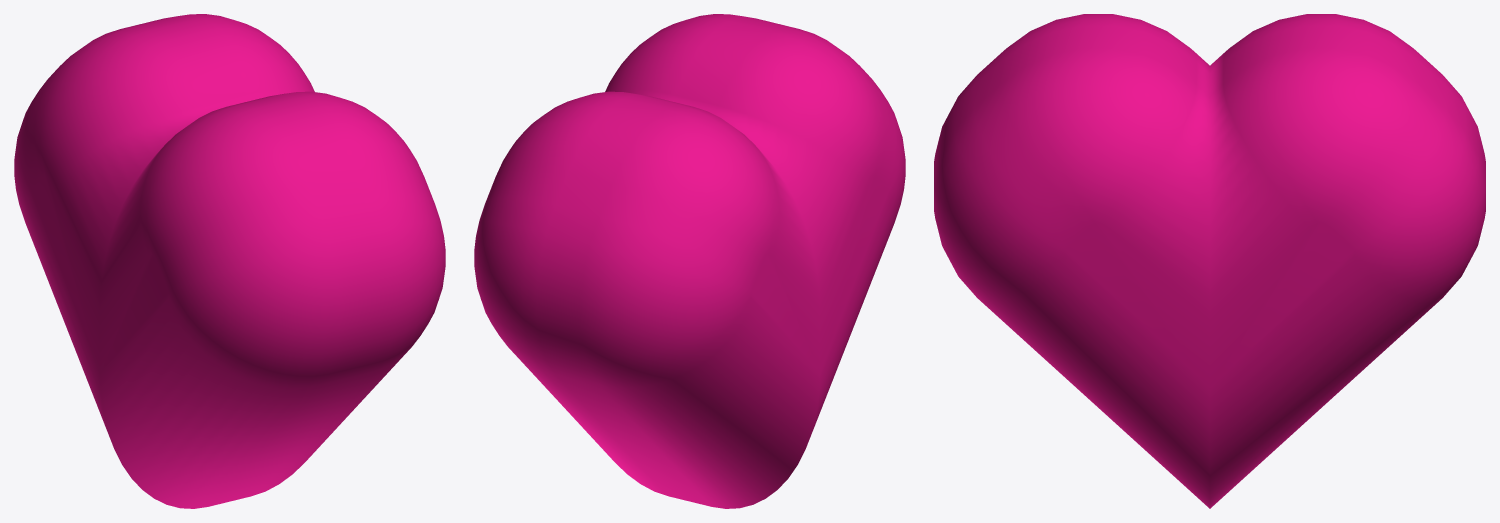
File: Heart.fbx
3 renders of one model, left to right at view 1: azimuth 30°, elevation 25°; view 2: azimuth 150°, elevation 25°; view 3: azimuth 270°, elevation 25°, orthographic. The views are drawn at different scales.
Visible parts, largest first — view 1: Cube.001; view 2: Cube.001; view 3: Cube.001.
Part boxes in pixels (left/top/right/bottom): Cube.001: left=14, top=14, right=445, bottom=508; Cube.001: left=474, top=14, right=905, bottom=508; Cube.001: left=934, top=14, right=1485, bottom=508.
Bounding box in the file's own units: 254 × 402 × 445.
